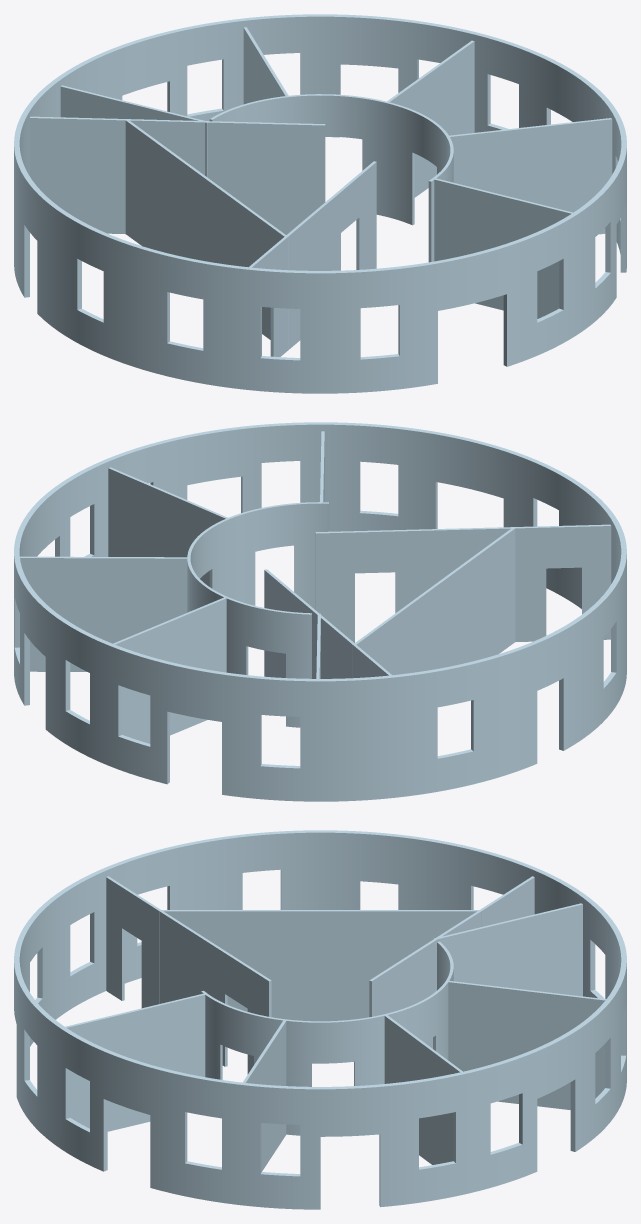
File: floor_walls.glb
The picture shows the model from 3 angles, top to bottom: view 1: azimuth 30°, elevation 25°; view 2: azimuth 150°, elevation 25°; view 3: azimuth 270°, elevation 25°; orthographic projection.
Visible parts, largest first — view 1: Facade 0, Radial demise wall (×5), Core tangent wall, Bedroom-bath wall, Corridor wall 0, Living-bedroom separator (×3); view 2: Facade 0, Radial demise wall (×3), Living-bedroom separator (×5), Corridor wall 0, Bedroom-bath wall, Core tangent wall; view 3: Facade 0, Radial demise wall (×5), Bedroom-bath wall, Corridor wall 0, Living-bedroom separator (×5), Core tangent wall.
Boxes of the visible parts, box(x1,y1,x2,y2) form: Facade 0: box(14, 14, 626, 393); Radial demise wall (×5): box(60, 27, 612, 318); Core tangent wall: box(29, 116, 325, 234); Bedroom-bath wall: box(125, 120, 288, 350); Corridor wall 0: box(209, 94, 453, 262); Living-bedroom separator (×3): box(270, 161, 376, 356); Facade 0: box(14, 422, 626, 801); Radial demise wall (×3): box(20, 467, 229, 743); Living-bedroom separator (×5): box(315, 524, 611, 642); Corridor wall 0: box(187, 502, 329, 727); Bedroom-bath wall: box(352, 528, 515, 677); Core tangent wall: box(264, 569, 391, 678); Facade 0: box(14, 830, 626, 1209); Radial demise wall (×5): box(65, 903, 605, 1171); Bedroom-bath wall: box(159, 910, 481, 1021); Corridor wall 0: box(201, 941, 453, 1135); Living-bedroom separator (×5): box(106, 876, 271, 1074); Core tangent wall: box(369, 876, 534, 1048).
Size of the model in its own units: 15.14 by 3.28 by 15.14.
